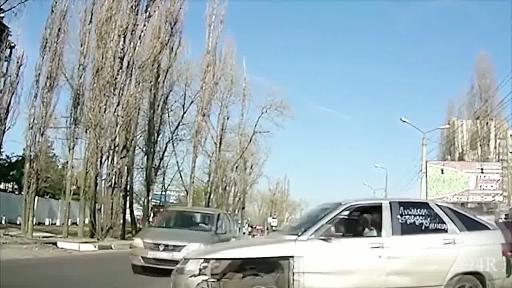Accident: (41, 80, 511, 288)
